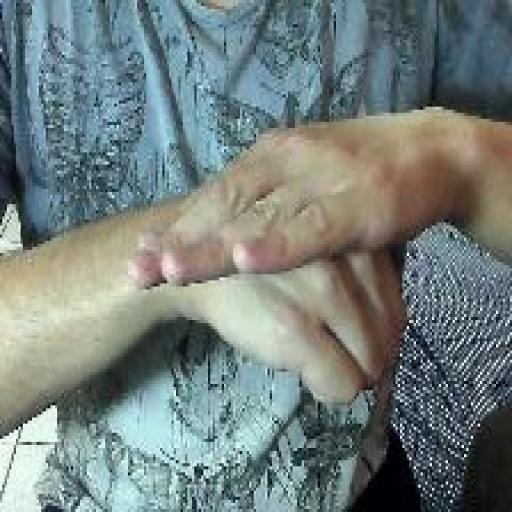Inu -dog-: (124, 120, 412, 413)
